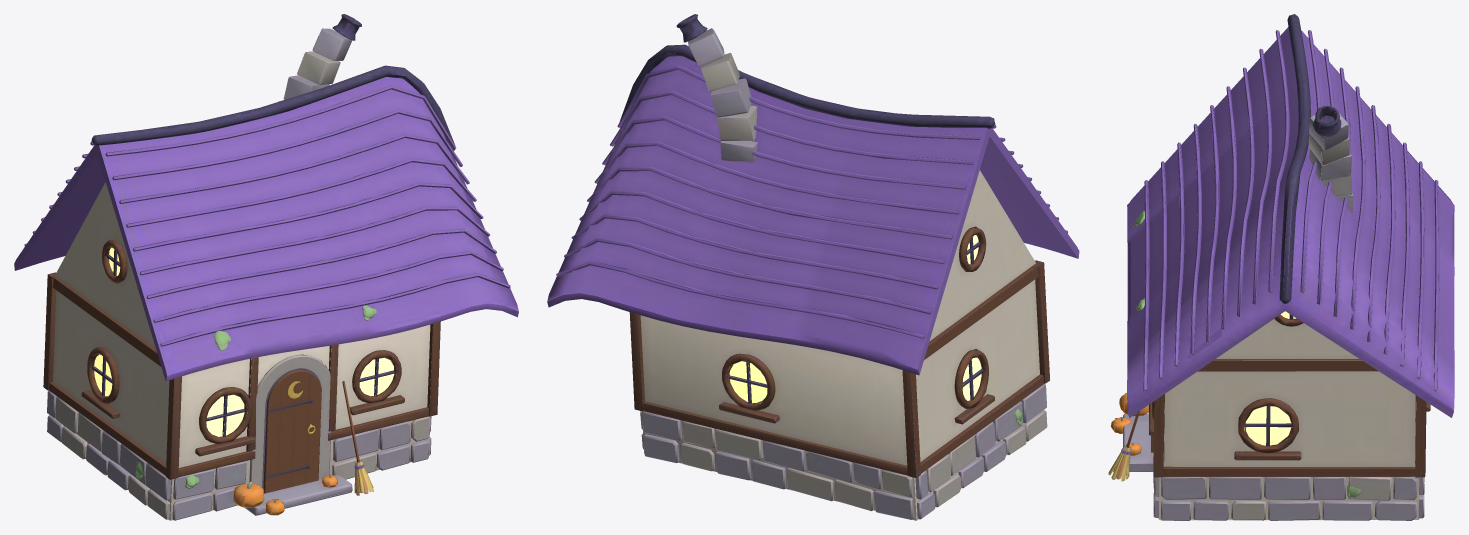
File: casita_bruja.glb
3 renders of one model, left to right at view 1: azimuth 30°, elevation 25°; view 2: azimuth 150°, elevation 25°; view 3: azimuth 270°, elevation 25°, orthographic. The views are drawn at different scales.
Parts seen in each view (by area): view 1: witch-cottage_body; view 2: witch-cottage_body; view 3: witch-cottage_body.
Part boxes in pixels (<box>): witch-cottage_body: <box>14,14,518,520</box>; witch-cottage_body: <box>547,14,1079,520</box>; witch-cottage_body: <box>1108,14,1454,520</box>.
Bounding box in the file's own units: 6.14 × 6.27 × 4.77.
Materials: 3 (2 with a texture image).
